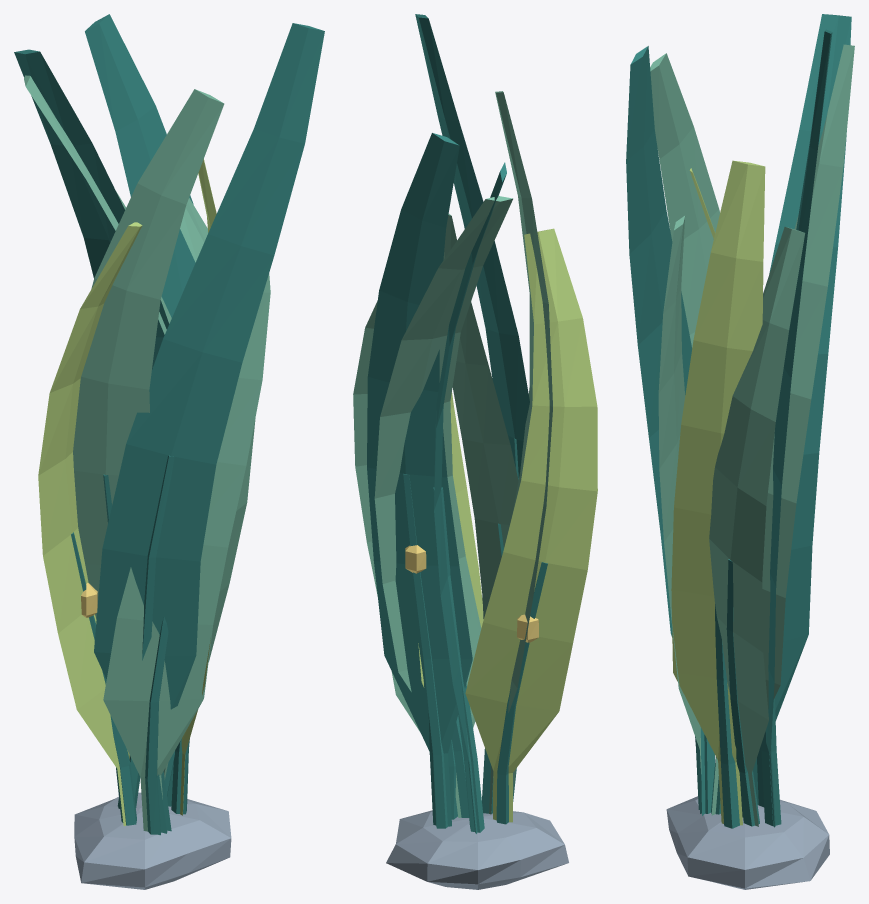
Rendered from kelp_tall.glb.
The picture shows the model from 3 angles, left to right: view 1: azimuth 30°, elevation 25°; view 2: azimuth 150°, elevation 25°; view 3: azimuth 270°, elevation 25°; orthographic projection. The views are drawn at different scales.
Parts seen in each view (by area): view 1: DL007_KelpTall_kelp_deep, DL007_KelpTall_kelp_mid, DL007_KelpTall_kelp_lime, DL007_KelpTall_stone_blue; view 2: DL007_KelpTall_kelp_deep, DL007_KelpTall_kelp_lime, DL007_KelpTall_kelp_mid, DL007_KelpTall_stone_blue, DL007_KelpTall_kelp_gold; view 3: DL007_KelpTall_kelp_mid, DL007_KelpTall_kelp_deep, DL007_KelpTall_kelp_lime, DL007_KelpTall_stone_blue.
Boxes of the visible parts, box(x1,y1,x2,y2) form: DL007_KelpTall_kelp_deep: box(14, 14, 324, 835); DL007_KelpTall_kelp_mid: box(24, 75, 270, 831); DL007_KelpTall_kelp_lime: box(38, 159, 216, 826); DL007_KelpTall_stone_blue: box(74, 792, 231, 889); DL007_KelpTall_kelp_deep: box(367, 14, 547, 833); DL007_KelpTall_kelp_lime: box(418, 228, 597, 822); DL007_KelpTall_kelp_mid: box(353, 91, 552, 817); DL007_KelpTall_stone_blue: box(386, 810, 568, 889); DL007_KelpTall_kelp_gold: box(405, 545, 538, 642); DL007_KelpTall_kelp_mid: box(650, 44, 854, 826); DL007_KelpTall_kelp_deep: box(626, 14, 851, 828); DL007_KelpTall_kelp_lime: box(671, 160, 765, 825); DL007_KelpTall_stone_blue: box(666, 796, 829, 889).
Size of the model in its own units: 1.78 by 6.05 by 1.43.
